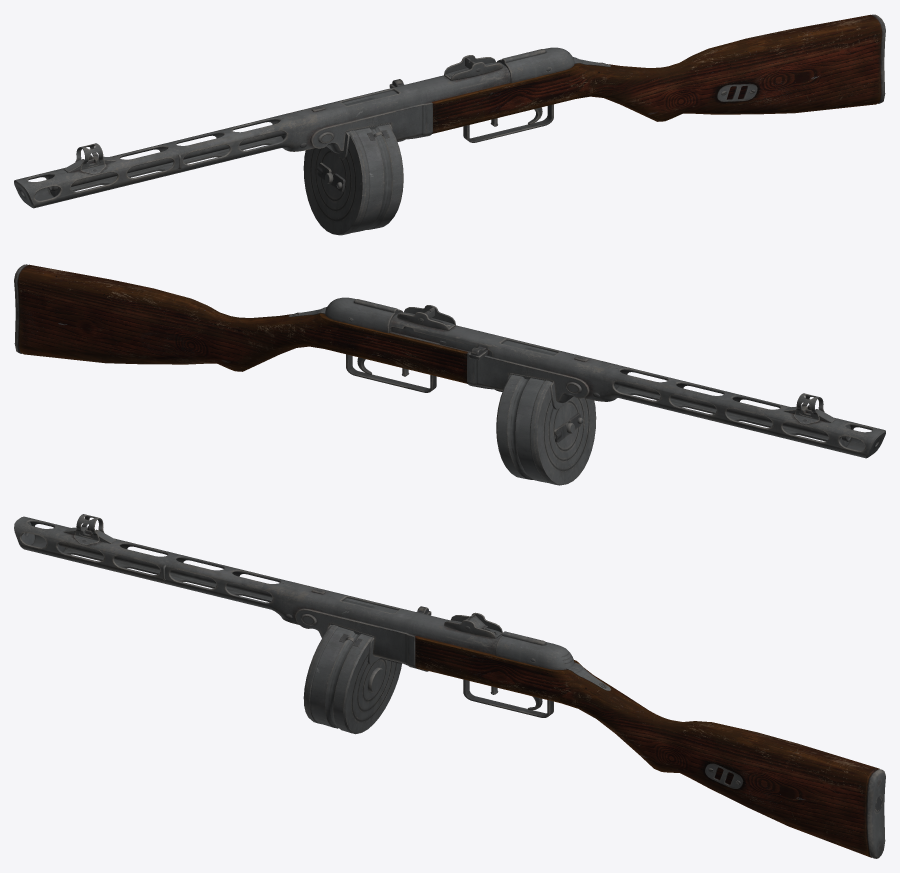
File: pph-41.glb
3 renders of one model, top to bottom at view 1: azimuth 30°, elevation 25°; view 2: azimuth 150°, elevation 25°; view 3: azimuth 330°, elevation 25°, orthographic.
Visible parts, largest first — view 1: ppsh-41_3_low.006_Material.001_0; view 2: ppsh-41_3_low.006_Material.001_0; view 3: ppsh-41_3_low.006_Material.001_0.
Boxes of the visible parts, x1,y1,x2,y2 form: ppsh-41_3_low.006_Material.001_0: (14,14,885,235); ppsh-41_3_low.006_Material.001_0: (14,264,885,485); ppsh-41_3_low.006_Material.001_0: (14,514,885,858).
Size of the model in its own units: 8.43 by 1.39 by 0.9906.
Materials: 1 (1 with a texture image).
